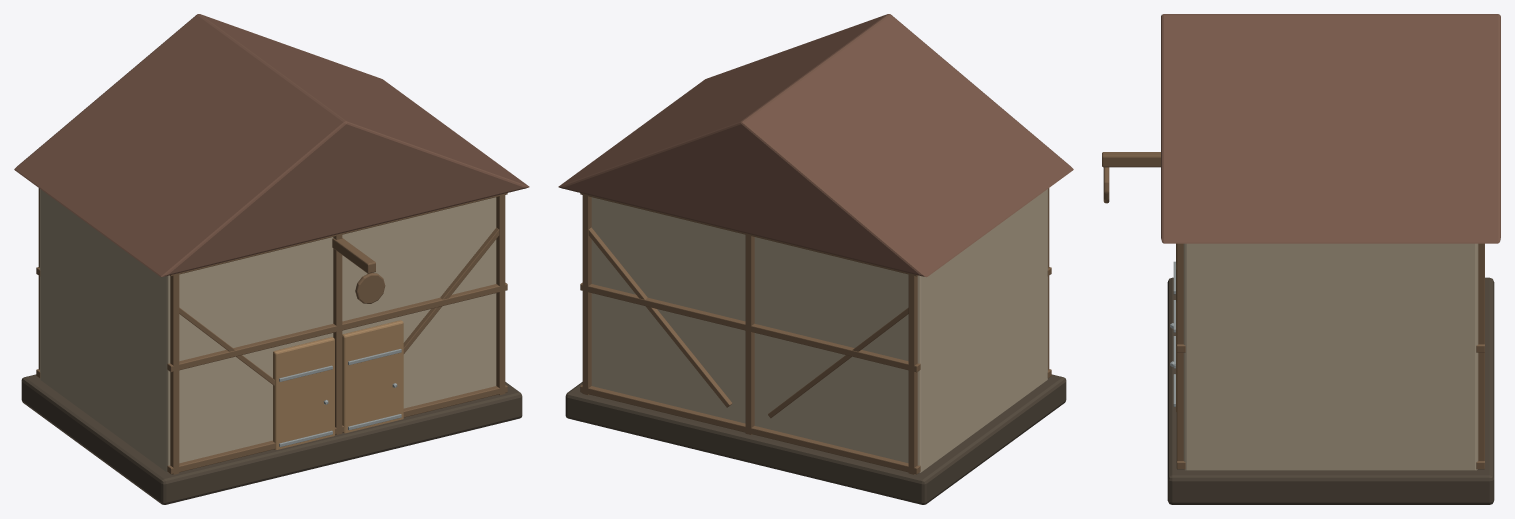
Rendered from merchant_warehouse.glb.
3 views of the same model, side by side, from view 1: azimuth 30°, elevation 25°; view 2: azimuth 150°, elevation 25°; view 3: azimuth 270°, elevation 25° (orthographic). The views are drawn at different scales.
Visible parts, largest first — view 1: WarehouseRoof, WarehouseBody, WarehouseFoundation, INTERACT_WarehouseDoor_1.0, INTERACT_WarehouseDoor_-1.0, TimberBeam.002, TimberBeam, TimberPost, TimberPost.004, TimberPost.002, DiagonalBrace.002, HoistWheel (+3 smaller); view 2: WarehouseBody, WarehouseRoof, WarehouseFoundation, TimberBeam.001, TimberBeam.003, TimberPost.001, TimberPost.003, TimberPost.005, DiagonalBrace.003, DiagonalBrace.001, TimberBeam.005; view 3: WarehouseRoof, WarehouseBody, WarehouseFoundation, TimberPost.004, TimberPost.005, HoistBeam.
Boxes of the visible parts, <box> form: WarehouseRoof: <box>14,14,529,276</box>; WarehouseBody: <box>40,189,496,472</box>; WarehouseFoundation: <box>21,374,522,504</box>; INTERACT_WarehouseDoor_1.0: <box>342,320,403,433</box>; INTERACT_WarehouseDoor_-1.0: <box>273,337,334,449</box>; TimberBeam.002: <box>167,282,507,372</box>; TimberBeam: <box>167,385,507,474</box>; TimberPost: <box>170,273,179,474</box>; TimberPost.004: <box>496,194,505,395</box>; TimberPost.002: <box>333,233,342,434</box>; DiagonalBrace.002: <box>403,227,499,353</box>; HoistWheel: <box>355,273,385,303</box>; WarehouseBody: <box>591,189,1047,472</box>; WarehouseRoof: <box>558,14,1073,276</box>; WarehouseFoundation: <box>565,374,1066,504</box>; TimberBeam.001: <box>580,385,920,474</box>; TimberBeam.003: <box>580,282,920,372</box>; TimberPost.001: <box>908,274,917,474</box>; TimberPost.003: <box>745,233,754,434</box>; TimberPost.005: <box>582,194,591,395</box>; DiagonalBrace.003: <box>588,227,732,407</box>; DiagonalBrace.001: <box>768,307,908,418</box>; TimberBeam.005: <box>580,193,917,276</box>; WarehouseRoof: <box>1161,14,1500,243</box>; WarehouseBody: <box>1183,243,1478,470</box>; WarehouseFoundation: <box>1167,277,1494,504</box>; TimberPost.004: <box>1176,243,1183,460</box>; TimberPost.005: <box>1478,243,1484,460</box>; HoistBeam: <box>1102,152,1160,167</box>.
Size of the model in its own units: 10.73 by 9.53 by 8.8.
